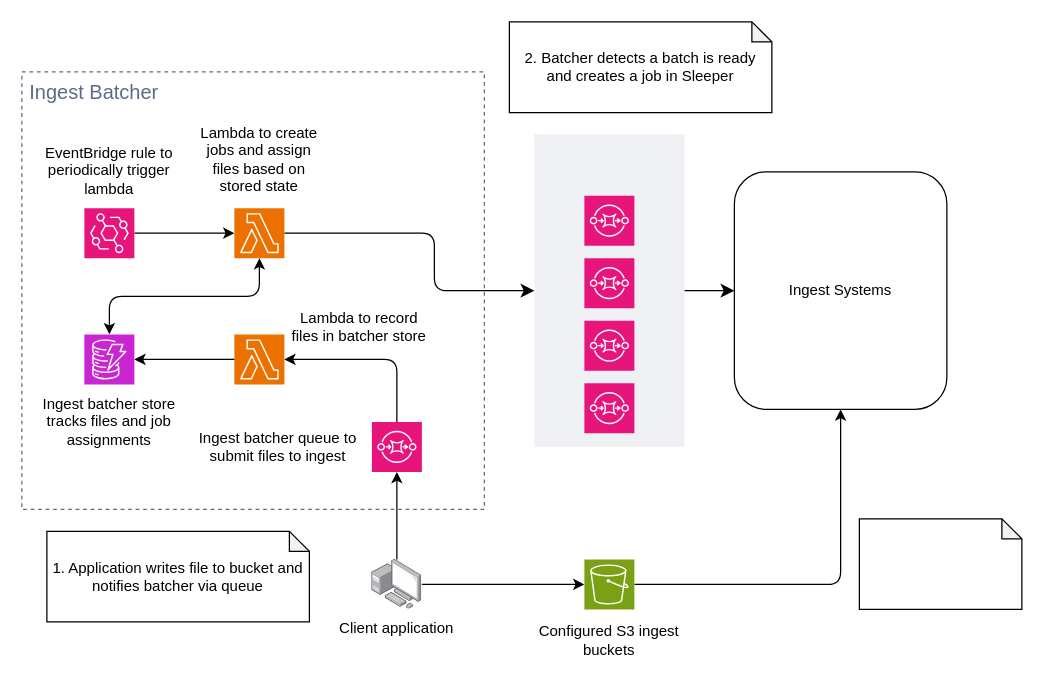
Some shapes in this 1044 by 681 pixel diagram are drawn without their labels. Each missing label, with the box of its shape:
3. Sleeper retrieves files for job from S3: (858, 518, 1022, 609)
Ingest / Bulk Import Queues: (534, 134, 684, 446)
